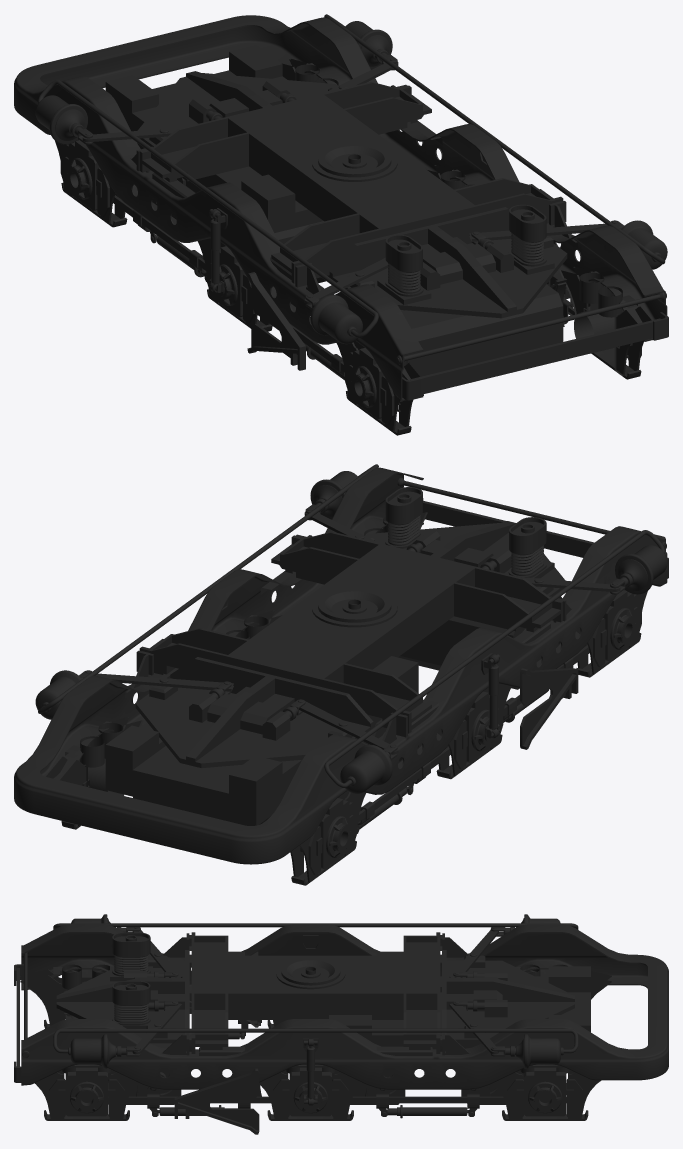
File: truck.glb
3 renders of one model, top to bottom at view 1: azimuth 30°, elevation 25°; view 2: azimuth 150°, elevation 25°; view 3: azimuth 270°, elevation 25°, orthographic. The views are drawn at different scales.
Parts seen in each view (by area): view 1: Bogee_NonMirrored_F, Bogee_Mirrored_F, Suspension_F, Suspension.002_F, Suspension.001_F; view 2: Bogee_NonMirrored_F, Bogee_Mirrored_F, Suspension.002_F, Suspension.001_F, Suspension_F; view 3: Bogee_NonMirrored_F, Bogee_Mirrored_F, Suspension_F, Suspension.002_F, Suspension.001_F, Brakes_F, Brakes.001_F.
Part boxes in pixels (box(x1,y1,x2,y2)): Bogee_NonMirrored_F: box(14, 15, 668, 411); Bogee_Mirrored_F: box(35, 14, 667, 344); Suspension_F: box(336, 267, 651, 435); Suspension.002_F: box(55, 58, 338, 227); Suspension.001_F: box(197, 165, 474, 331); Bogee_NonMirrored_F: box(14, 467, 668, 864); Bogee_Mirrored_F: box(35, 464, 667, 793); Suspension.002_F: box(46, 717, 365, 885); Suspension.001_F: box(226, 610, 511, 779); Suspension_F: box(364, 512, 647, 677); Bogee_NonMirrored_F: box(14, 924, 668, 1134); Bogee_Mirrored_F: box(53, 914, 578, 1068); Suspension_F: box(20, 964, 139, 1120); Suspension.002_F: box(493, 964, 611, 1120); Suspension.001_F: box(259, 1020, 362, 1120); Brakes_F: box(365, 1069, 490, 1116); Brakes.001_F: box(136, 1020, 261, 1116).
Size of the model in its own units: 2.79 by 1.15 by 5.75.
Materials: 1 (1 with a texture image).
